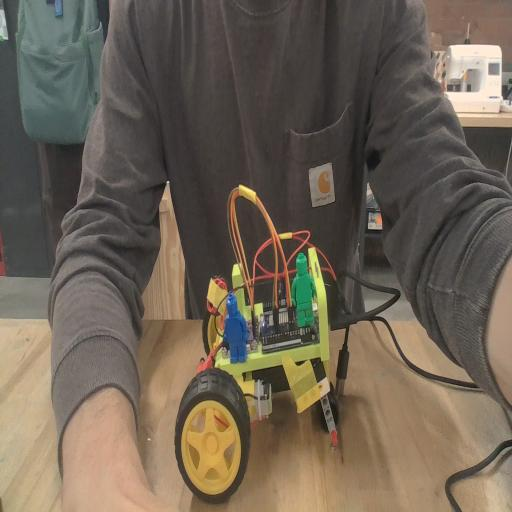blue LEGO minifig: (222, 292, 251, 368)
green LEGO minifig: (290, 253, 318, 331)
